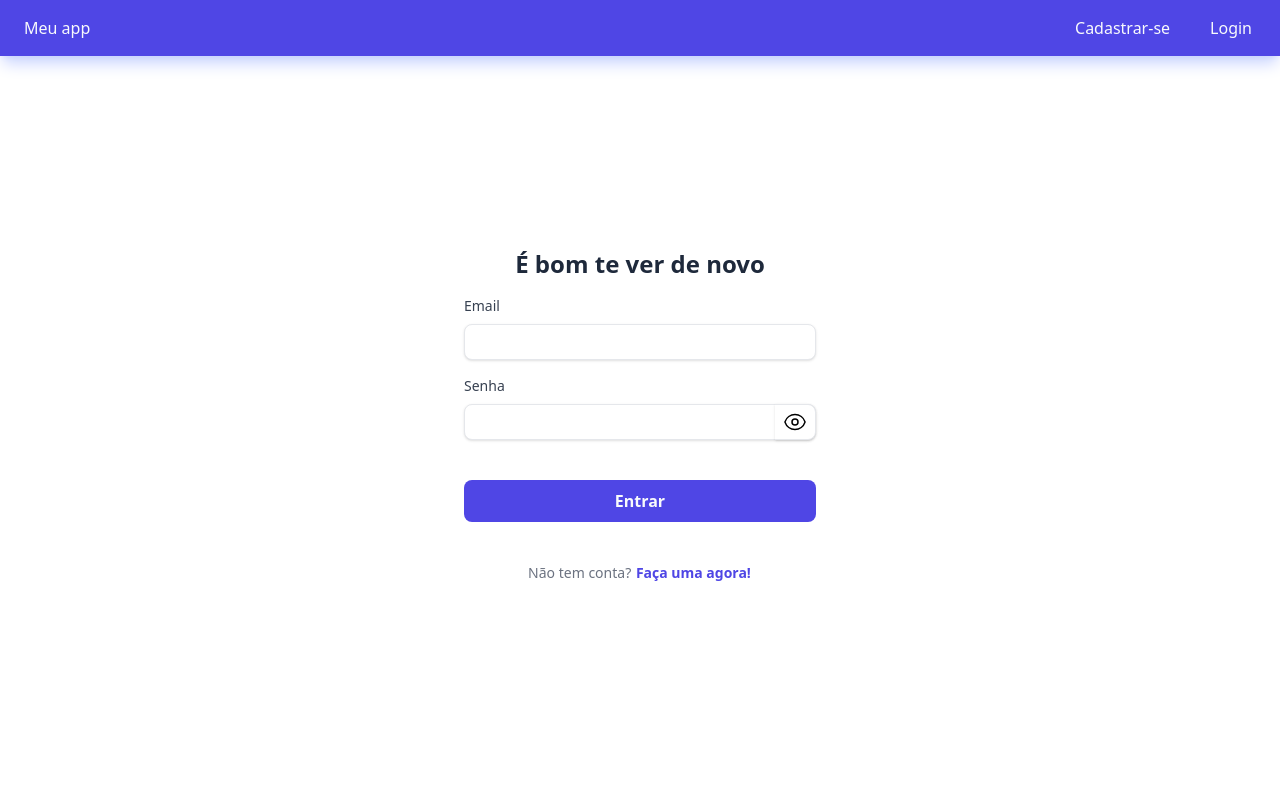
[Account] Login › see input empty error when click in submit button
The image size is (1280, 800).
Click the button "Entrar" at point(640, 501), box [464,480,816,522]
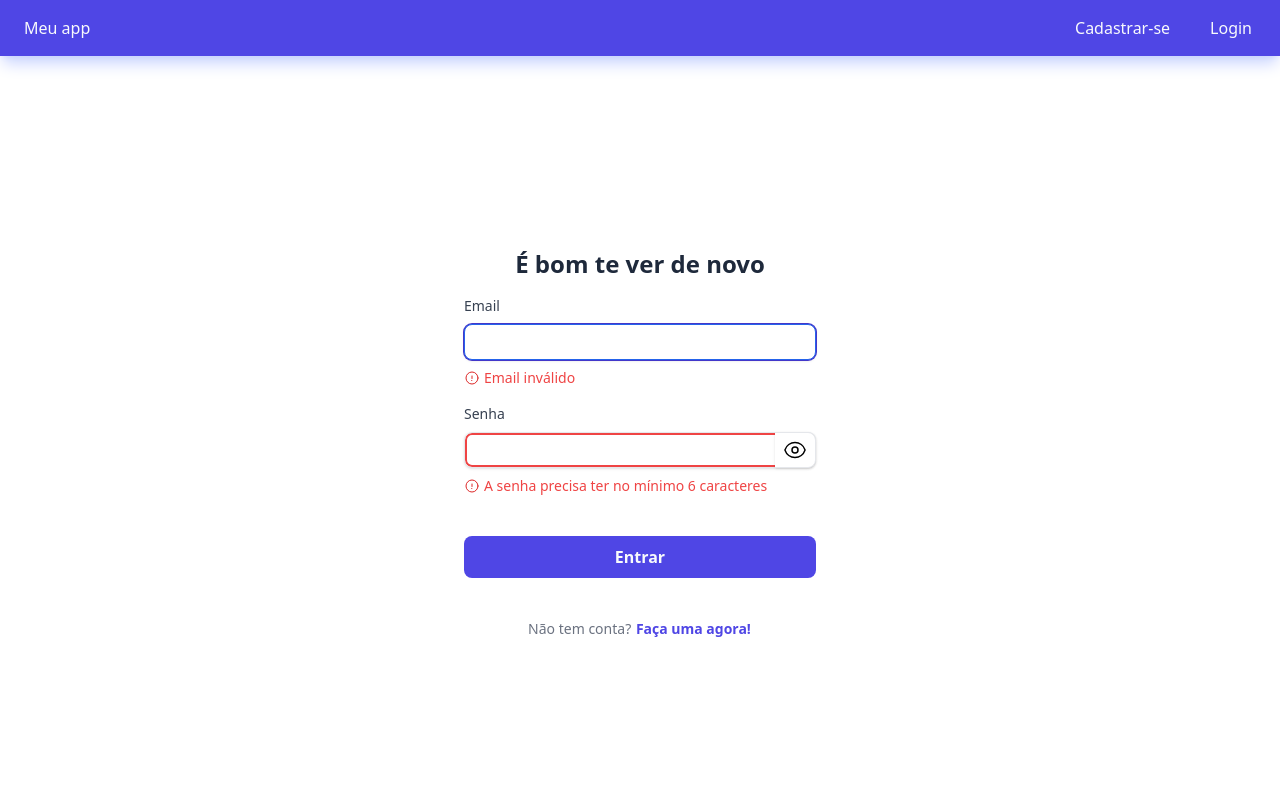
Result: the text "Email inválido" is shown at [464,368,575,387]
Result: the text "A senha precisa ter no mínimo 6 caracteres" is shown at [464,476,816,496]
